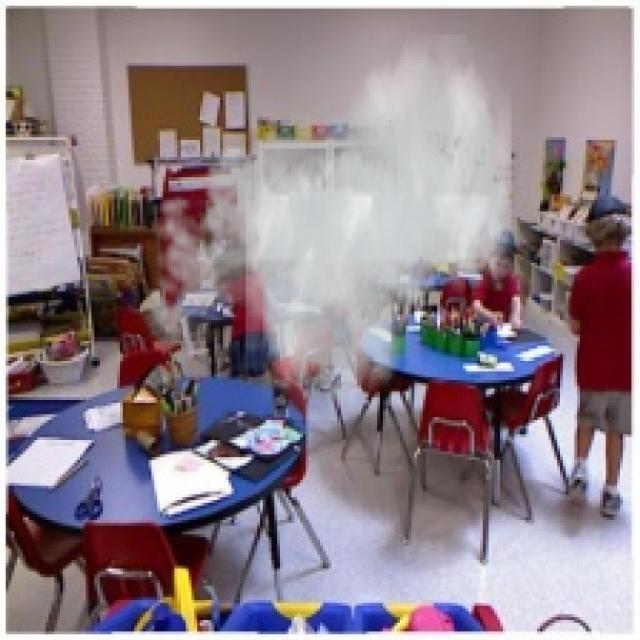Smoke: (134, 34, 512, 420)
